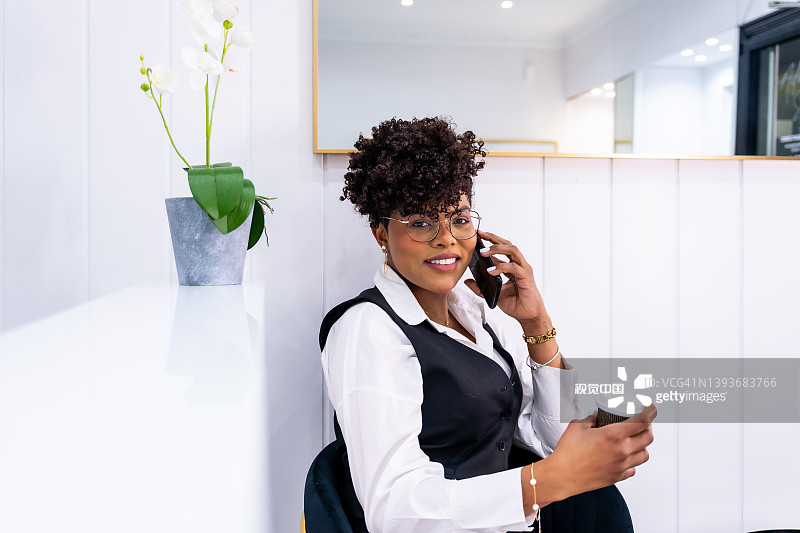calling: (457, 221, 567, 335)
no-phone: (549, 392, 673, 501)
